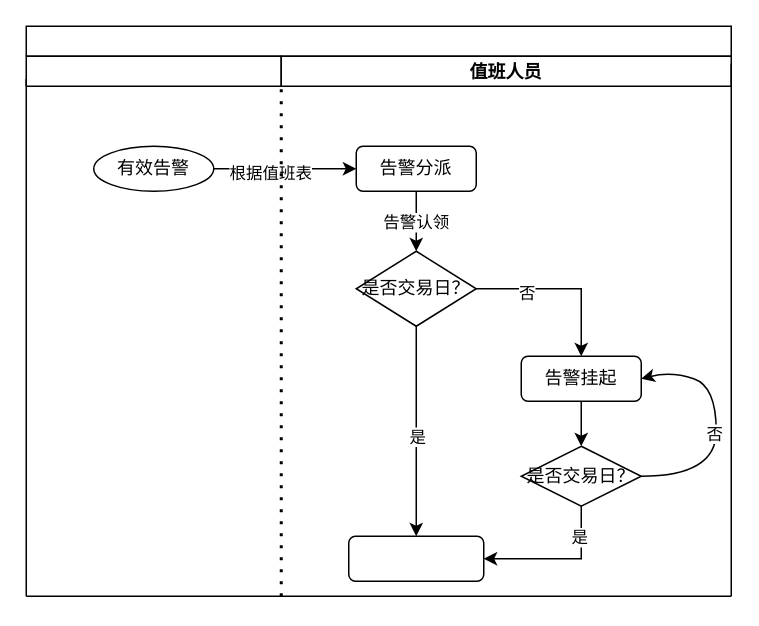
Some shapes in this 759 by 626 pixel diagram are drawn without their labels. The box of each missing label's shape, as (x1, y1, x2, y2) in pixels:
一线运维: (25, 55, 281, 86)
告警处理: (347, 535, 484, 581)
角色: (25, 25, 731, 56)
